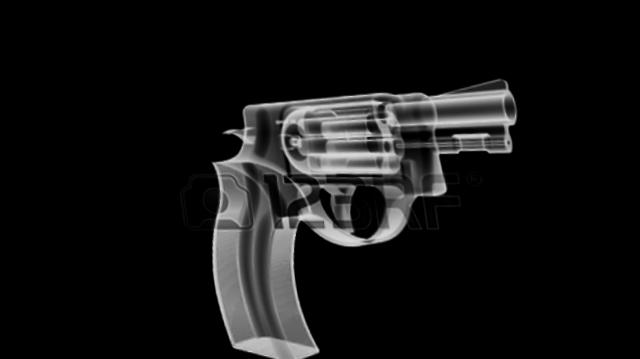pistol: (177, 48, 553, 359)
